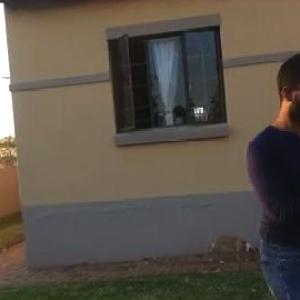follow: (242, 44, 299, 299)
null: (194, 230, 259, 267)
